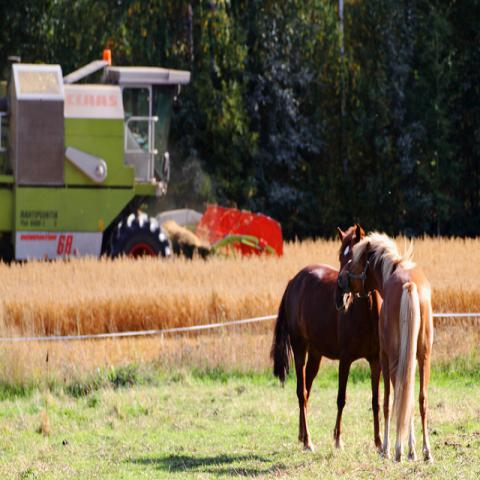truck: (2, 57, 190, 255)
